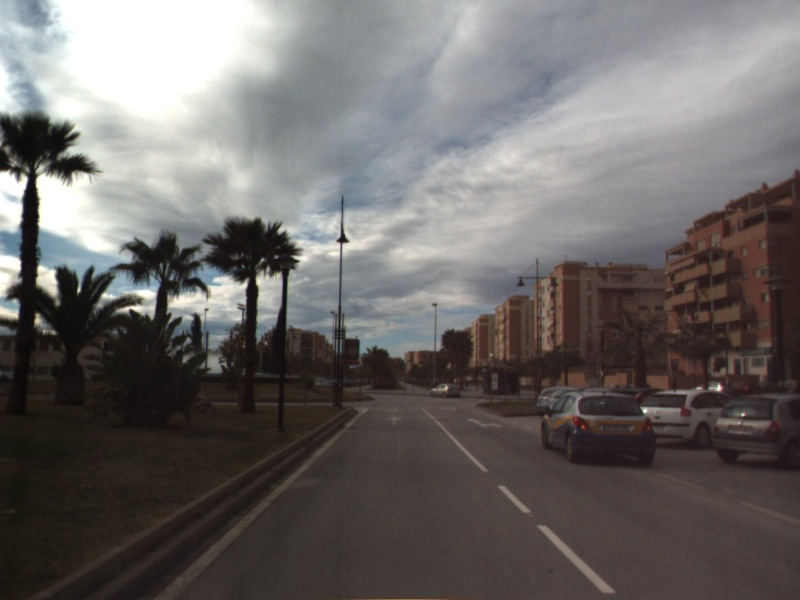STRAIGHT: (386, 414, 405, 427)
STRAIGHT_RIGHT: (465, 416, 503, 430)
